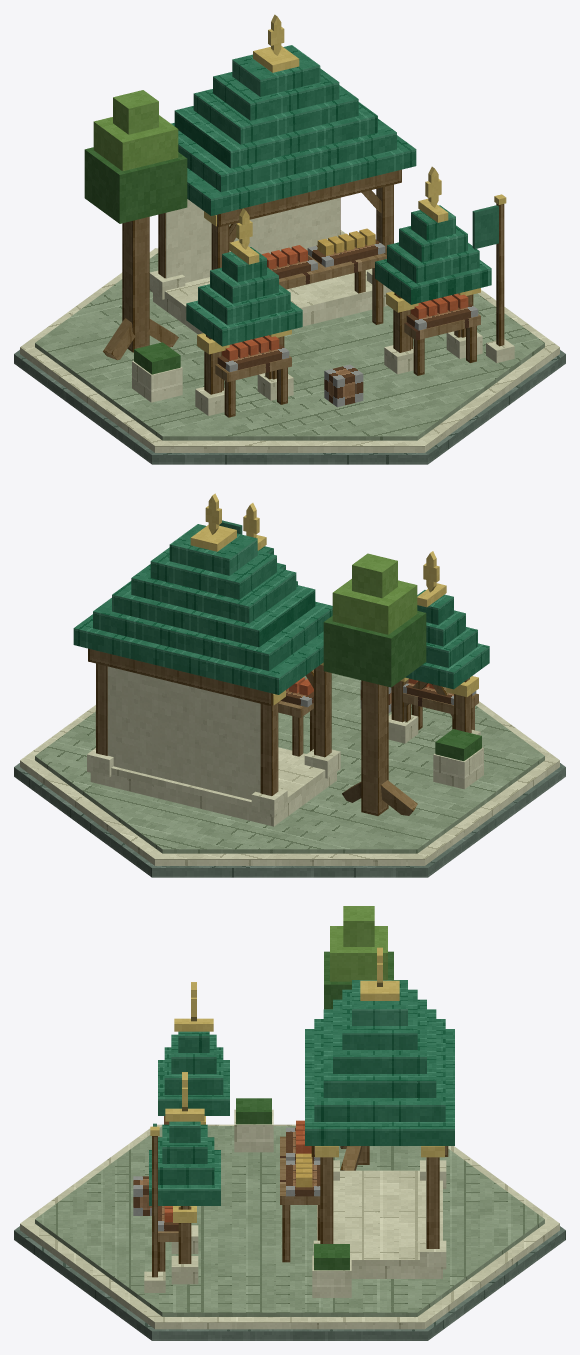
File: elf_market_hex_v1.glb
The picture shows the model from 3 angles, top to bottom: view 1: azimuth 30°, elevation 25°; view 2: azimuth 150°, elevation 25°; view 3: azimuth 270°, elevation 25°; orthographic projection.
Visible parts, largest first — view 1: Elf_Market_Hex_V1_Foundation, Elf_Market_Hex_V1_Roofs, Elf_Market_Hex_V1_Details, Elf_Market_Hex_V1_Structure, Elf_Market_Hex_V1_Hall, Elf_Market_Hex_V1_Courtyard, Elf_Market_Hex_V1_Faction; view 2: Elf_Market_Hex_V1_Foundation, Elf_Market_Hex_V1_Roofs, Elf_Market_Hex_V1_Hall, Elf_Market_Hex_V1_Details, Elf_Market_Hex_V1_Structure, Elf_Market_Hex_V1_Courtyard; view 3: Elf_Market_Hex_V1_Foundation, Elf_Market_Hex_V1_Roofs, Elf_Market_Hex_V1_Details, Elf_Market_Hex_V1_Hall, Elf_Market_Hex_V1_Structure, Elf_Market_Hex_V1_Courtyard.
Boxes of the visible parts, left/top/right/bottom form: Elf_Market_Hex_V1_Foundation: left=14, top=248, right=565, bottom=464; Elf_Market_Hex_V1_Roofs: left=171, top=45, right=491, bottom=346; Elf_Market_Hex_V1_Details: left=84, top=14, right=514, bottom=417; Elf_Market_Hex_V1_Structure: left=103, top=169, right=482, bottom=415; Elf_Market_Hex_V1_Hall: left=153, top=198, right=387, bottom=334; Elf_Market_Hex_V1_Courtyard: left=132, top=361, right=182, bottom=402; Elf_Market_Hex_V1_Faction: left=472, top=205, right=498, bottom=249; Elf_Market_Hex_V1_Foundation: left=14, top=673, right=565, bottom=877; Elf_Market_Hex_V1_Roofs: left=73, top=524, right=489, bottom=694; Elf_Market_Hex_V1_Hall: left=90, top=666, right=336, bottom=826; Elf_Market_Hex_V1_Details: left=205, top=493, right=481, bottom=761; Elf_Market_Hex_V1_Structure: left=87, top=648, right=480, bottom=817; Elf_Market_Hex_V1_Courtyard: left=95, top=710, right=483, bottom=789; Elf_Market_Hex_V1_Foundation: left=14, top=1124, right=565, bottom=1340; Elf_Market_Hex_V1_Roofs: left=149, top=980, right=454, bottom=1205; Elf_Market_Hex_V1_Details: left=133, top=906, right=393, bottom=1292; Elf_Market_Hex_V1_Hall: left=317, top=1157, right=442, bottom=1278; Elf_Market_Hex_V1_Structure: left=171, top=1116, right=448, bottom=1284; Elf_Market_Hex_V1_Courtyard: left=234, top=1109, right=351, bottom=1297.
Bounding box in the file's own units: 1.59 × 1.13 × 1.84.
Materials: 1 (1 with a texture image).
